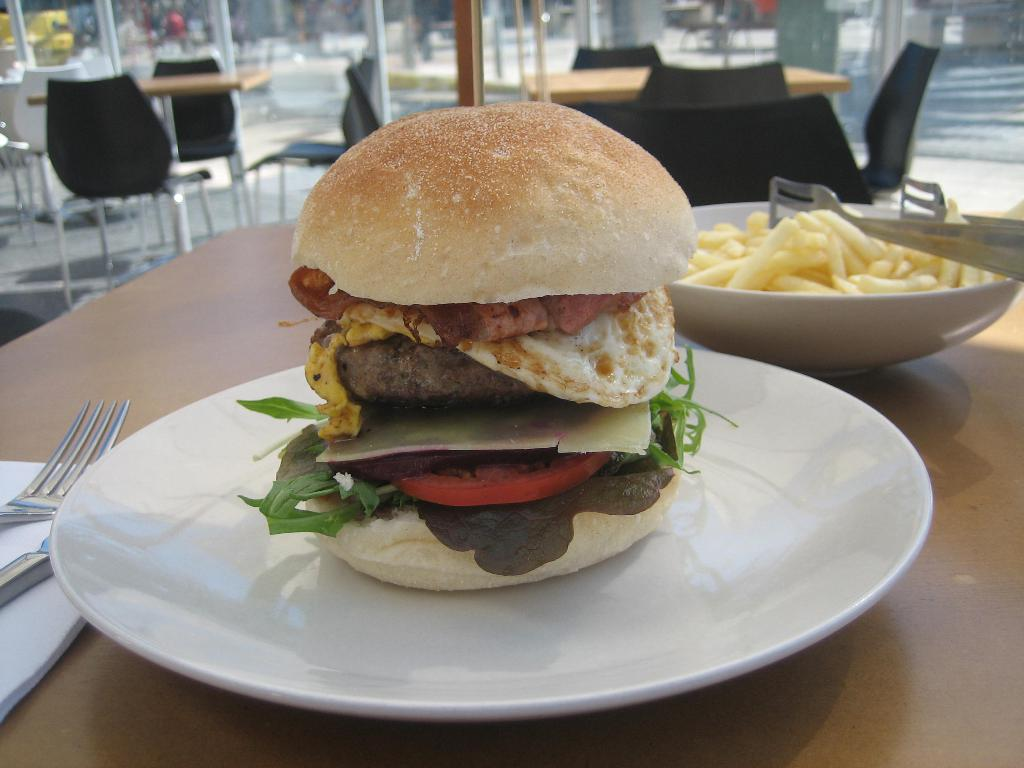Hamburger: (238, 99, 736, 595)
